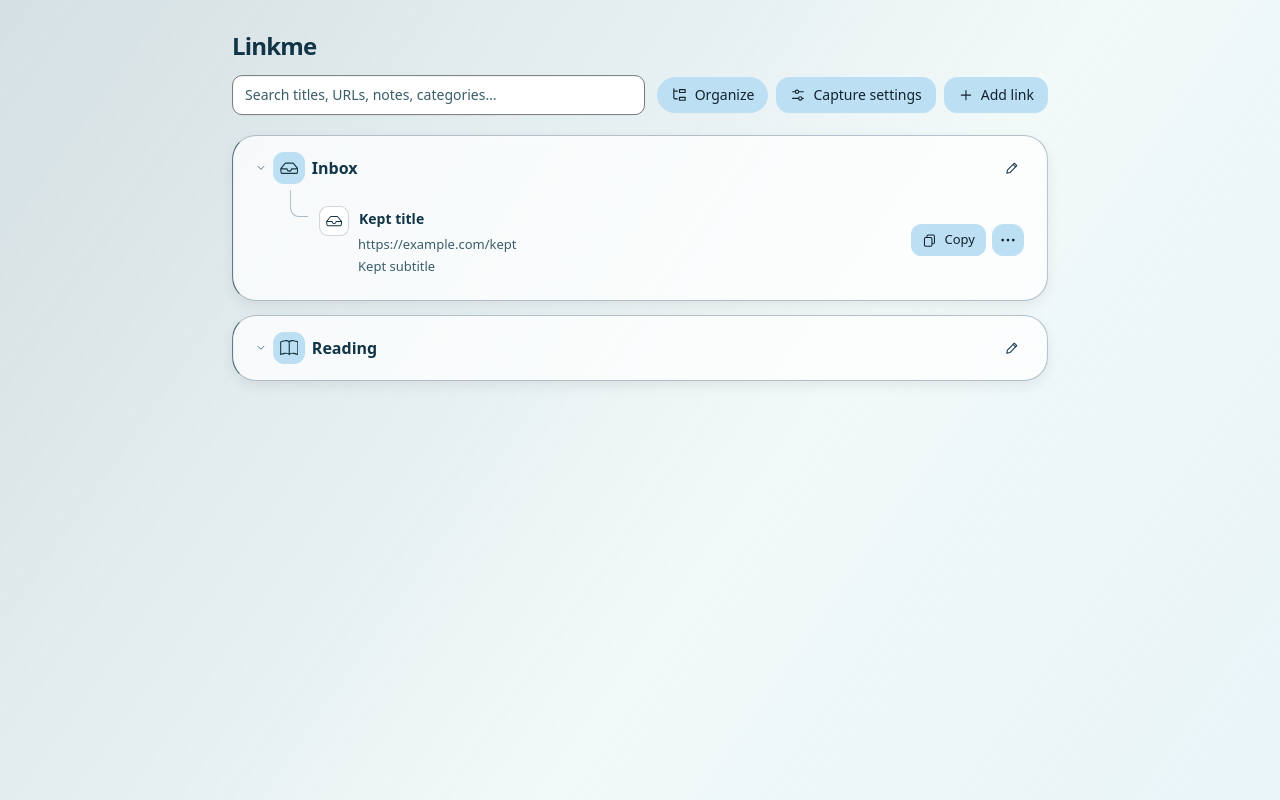
it: edits prefilled metadata and category without losing other fields
The width and height of the screenshot is (1280, 800).
Click the heading named "Actions for".
click(1008, 240)  # box [992,224,1024,256]
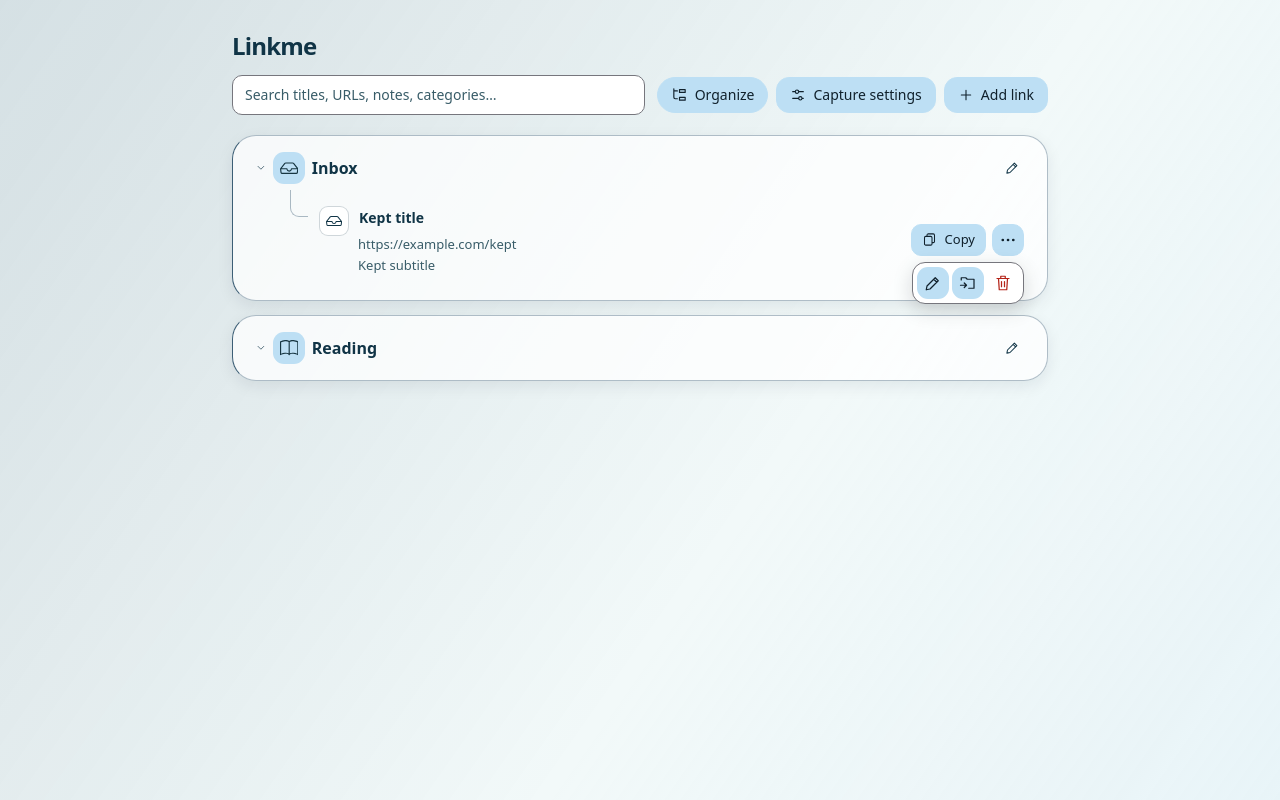
Click the button named "Edit".
click(933, 283)  # box [917,267,949,299]
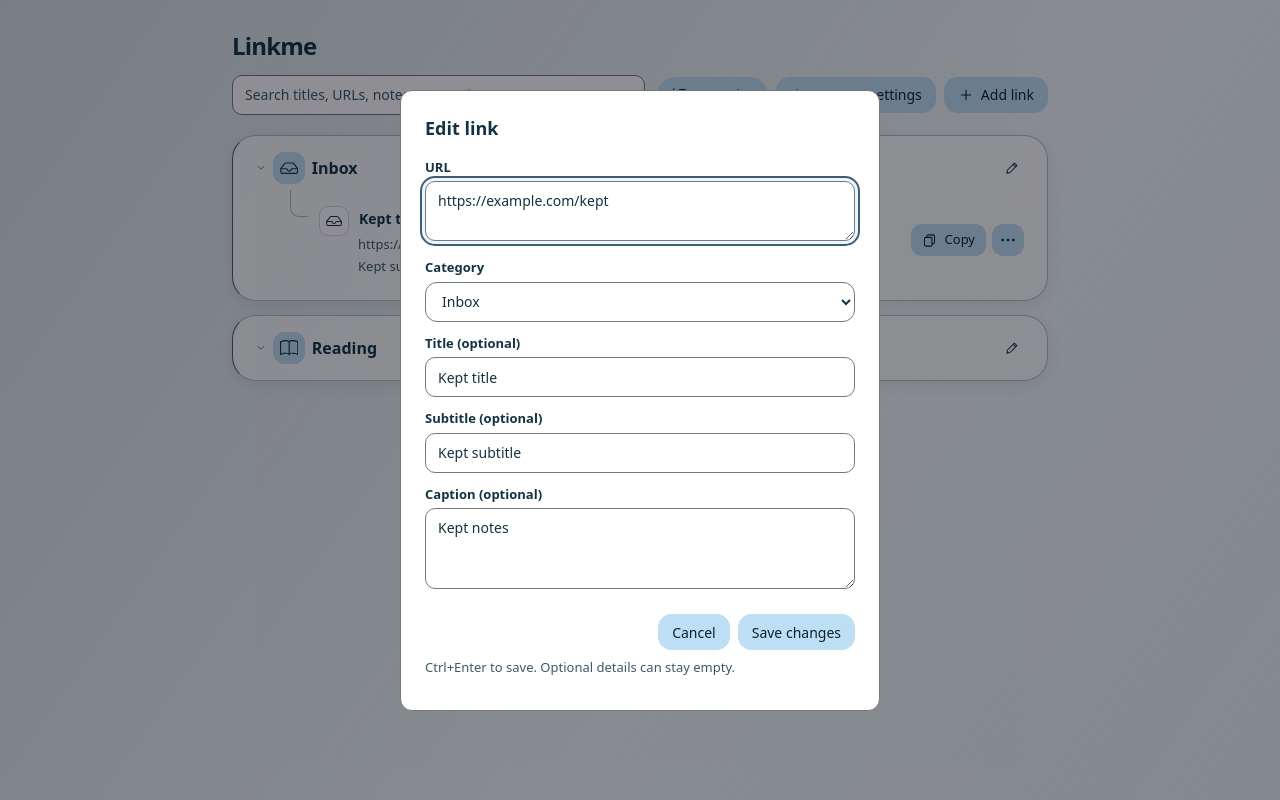
Expected: the text box labelled "Caption (optional)" holds "Kept notes", [425,508,855,589]
Replace the text in the field labelled "Title (optional)" with "Updated" at (640, 377), box [425,357,855,397]
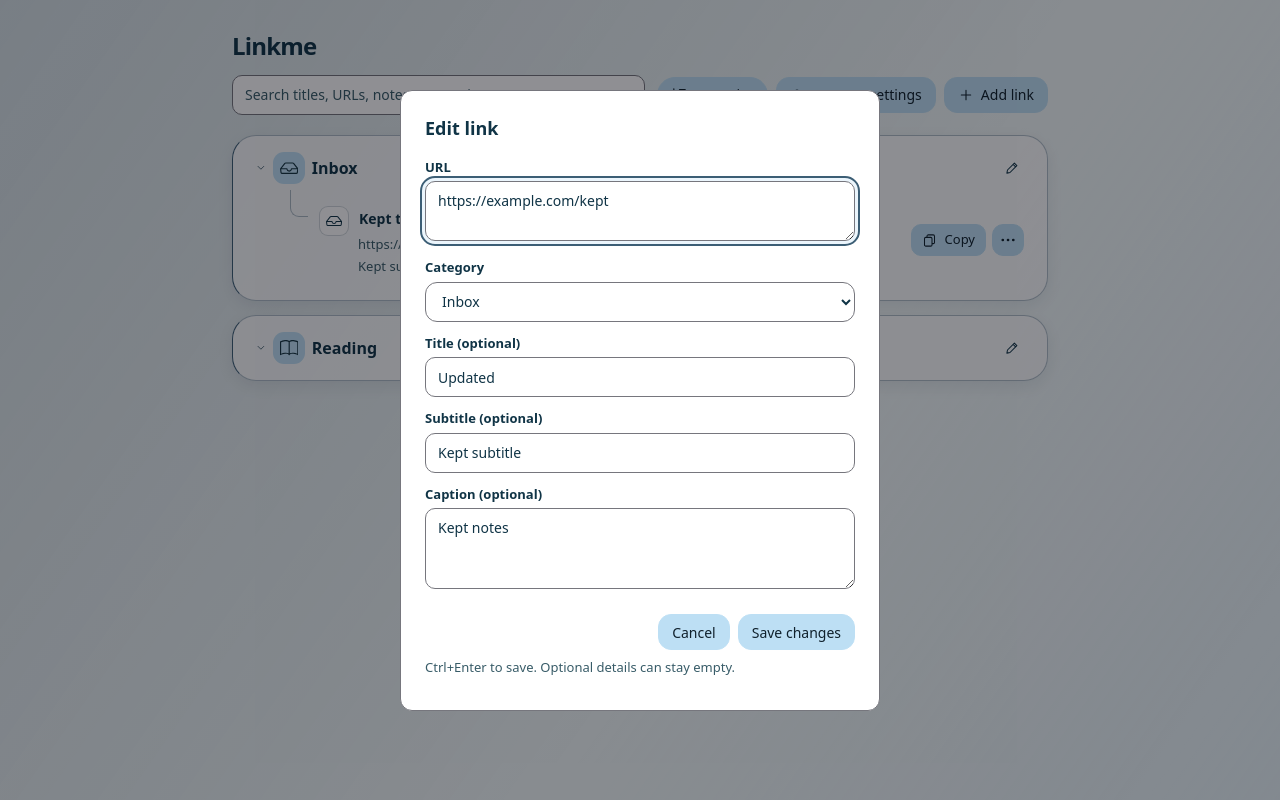
Select "Reading" in the dropdown labelled "Category" at (640, 302), box [425,282,855,322]
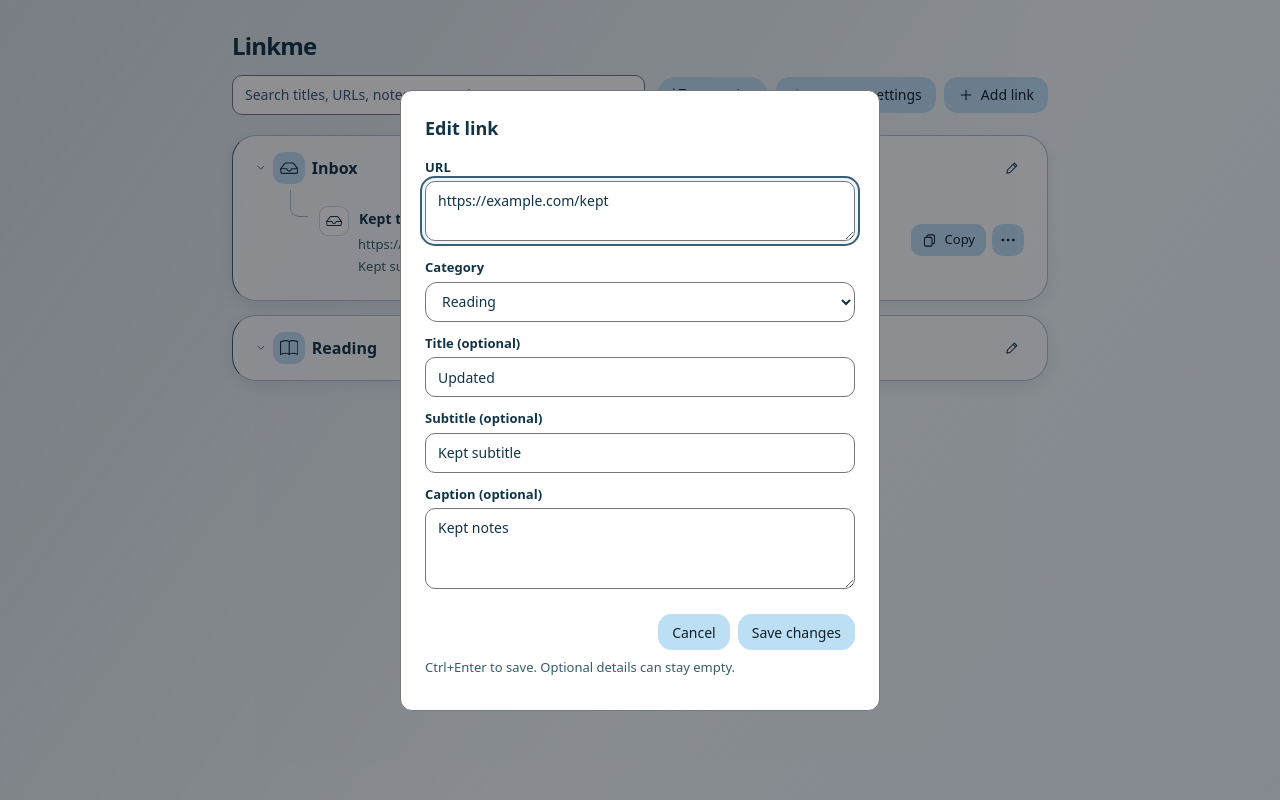
Click the button "Save changes".
click(796, 632)  # box [738,614,855,650]
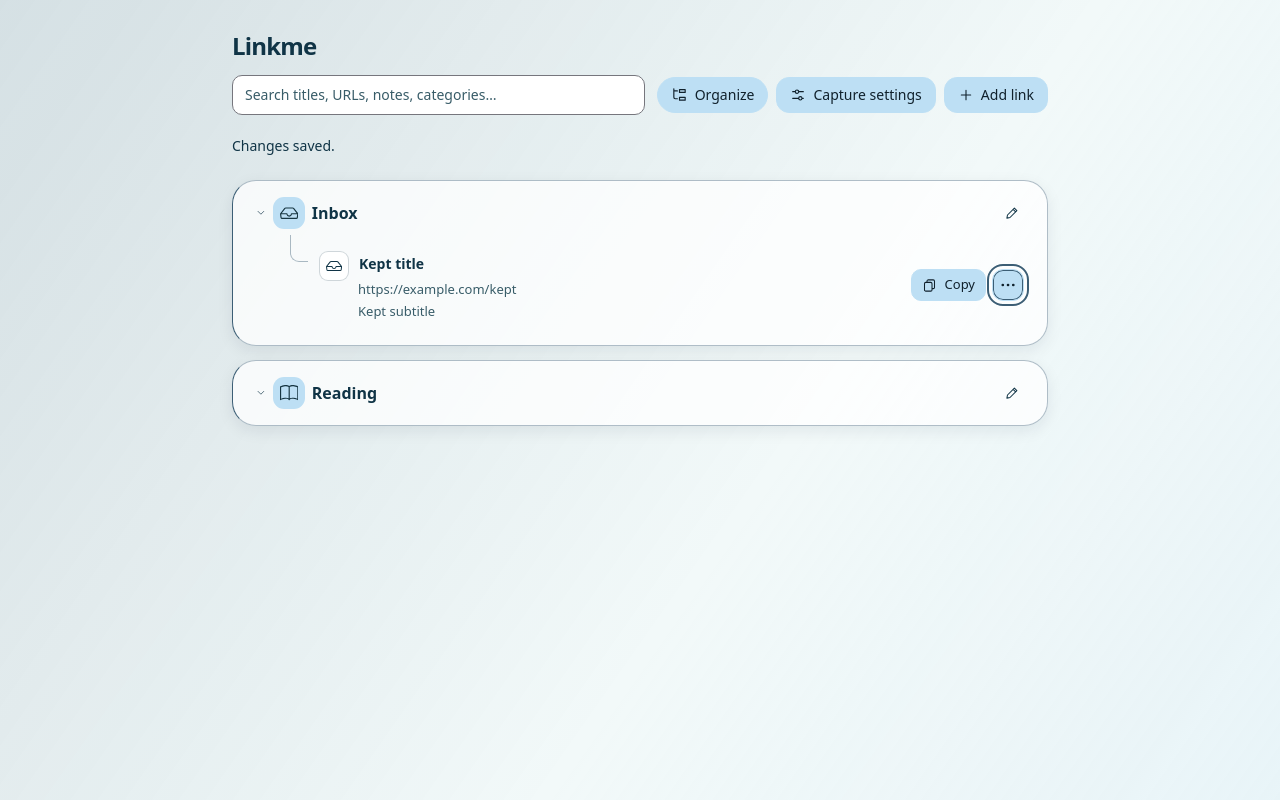
Expected: the text "Changes saved." is shown, [232,136,335,155]
